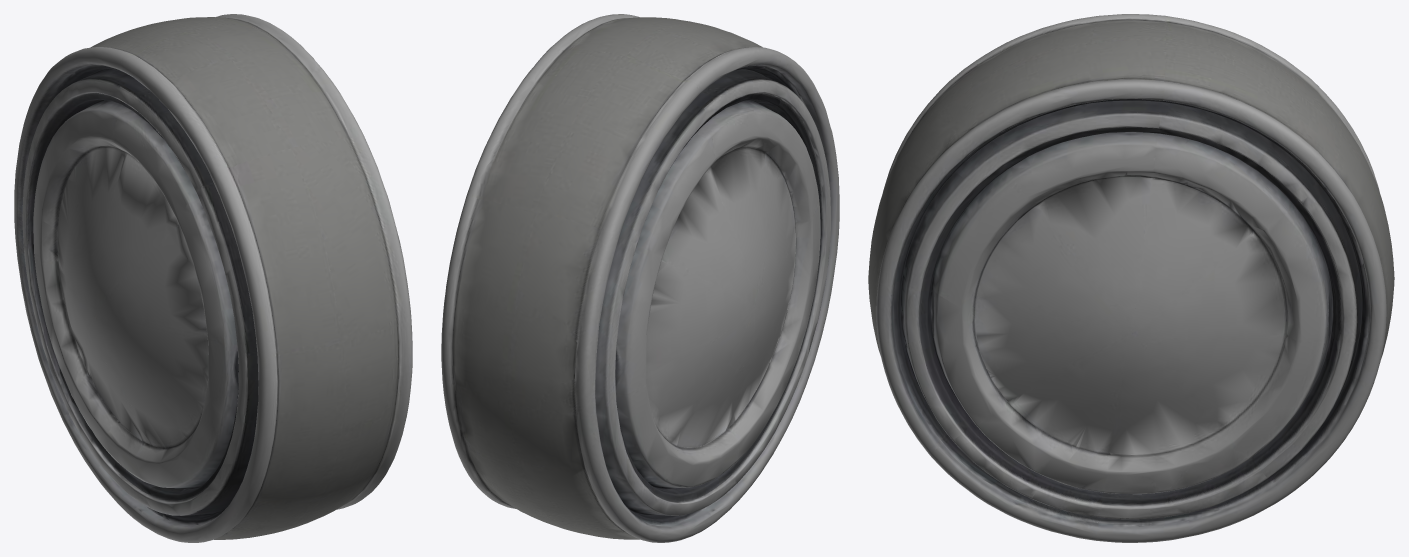
File: btn-animation.glb
3 views of the same model, side by side, from view 1: azimuth 30°, elevation 25°; view 2: azimuth 150°, elevation 25°; view 3: azimuth 270°, elevation 25° (orthographic).
Parts seen in each view (by area): view 1: tripo_node_e688ec7f-2518-4d46-9dbe-23877897a416; view 2: tripo_node_e688ec7f-2518-4d46-9dbe-23877897a416; view 3: tripo_node_e688ec7f-2518-4d46-9dbe-23877897a416.
Part boxes in pixels (box(x1,y1,x2,y2)): tripo_node_e688ec7f-2518-4d46-9dbe-23877897a416: box(14, 14, 412, 542); tripo_node_e688ec7f-2518-4d46-9dbe-23877897a416: box(441, 14, 839, 542); tripo_node_e688ec7f-2518-4d46-9dbe-23877897a416: box(868, 14, 1394, 542).
Bounding box in the file's own units: 0.5017 × 1 × 0.9998.
1 material, 1 textured.
